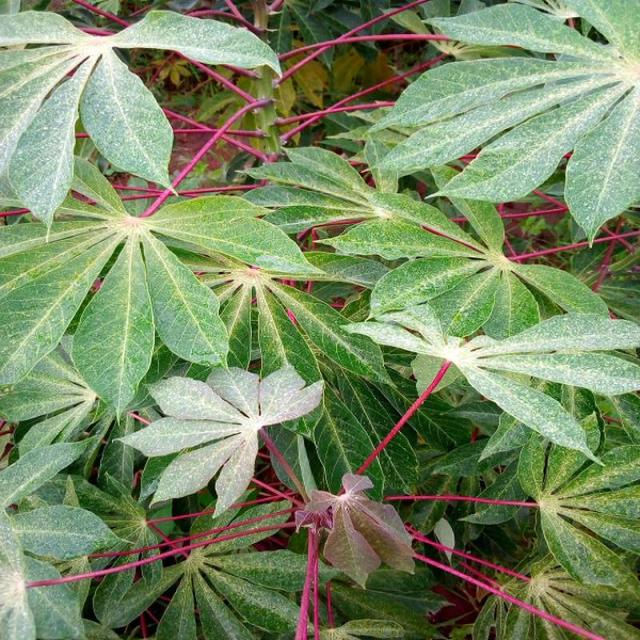cassava leaf: (0, 1, 638, 638), (362, 0, 638, 247), (0, 5, 283, 232), (113, 360, 325, 520)
